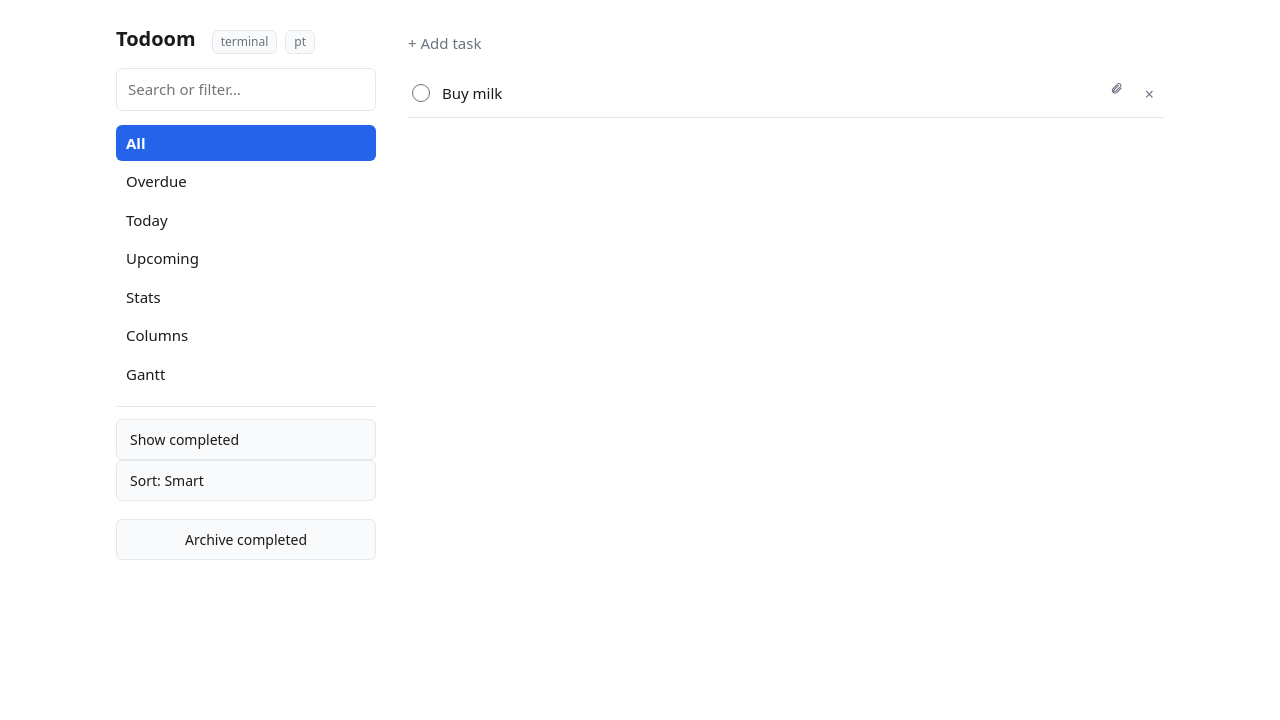
App › opens the task modal when the text is clicked
This screenshot has width=1280, height=720.
Click the text with class "task__text" at [472, 92], box [442,82,502,102]
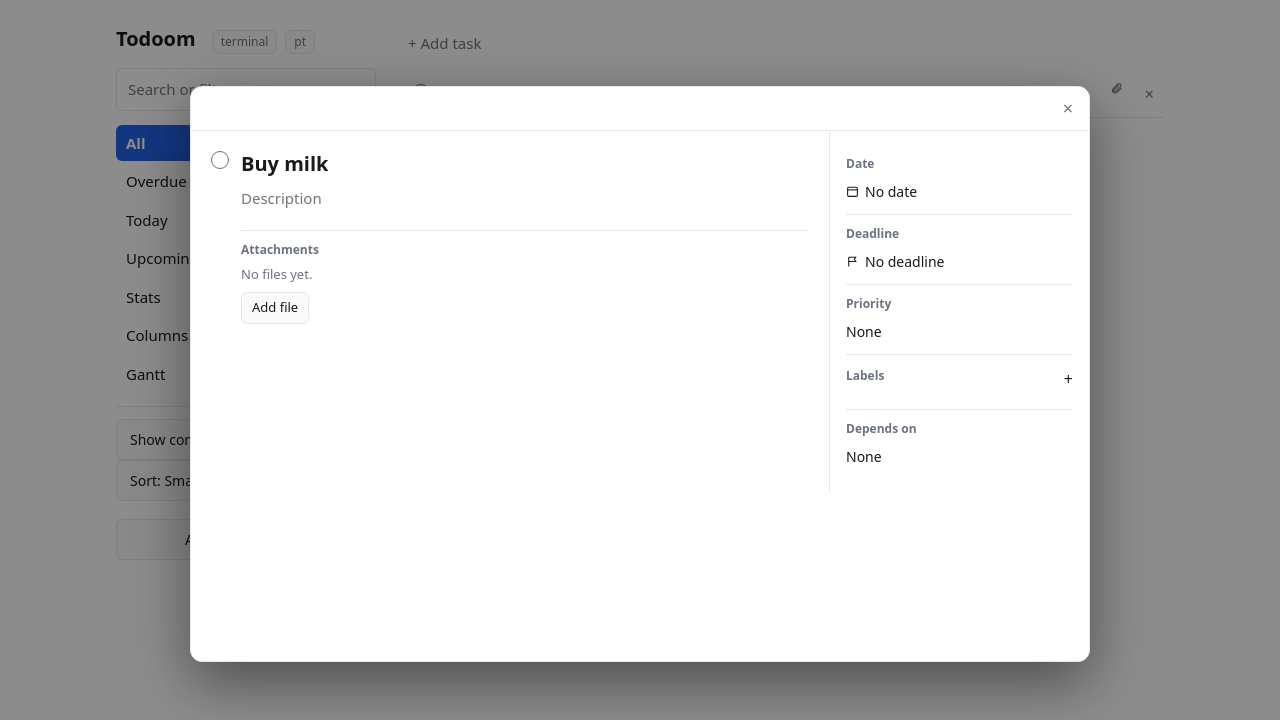
Result: the dialog with class "task-modal" is shown at [190,86,1090,662]
